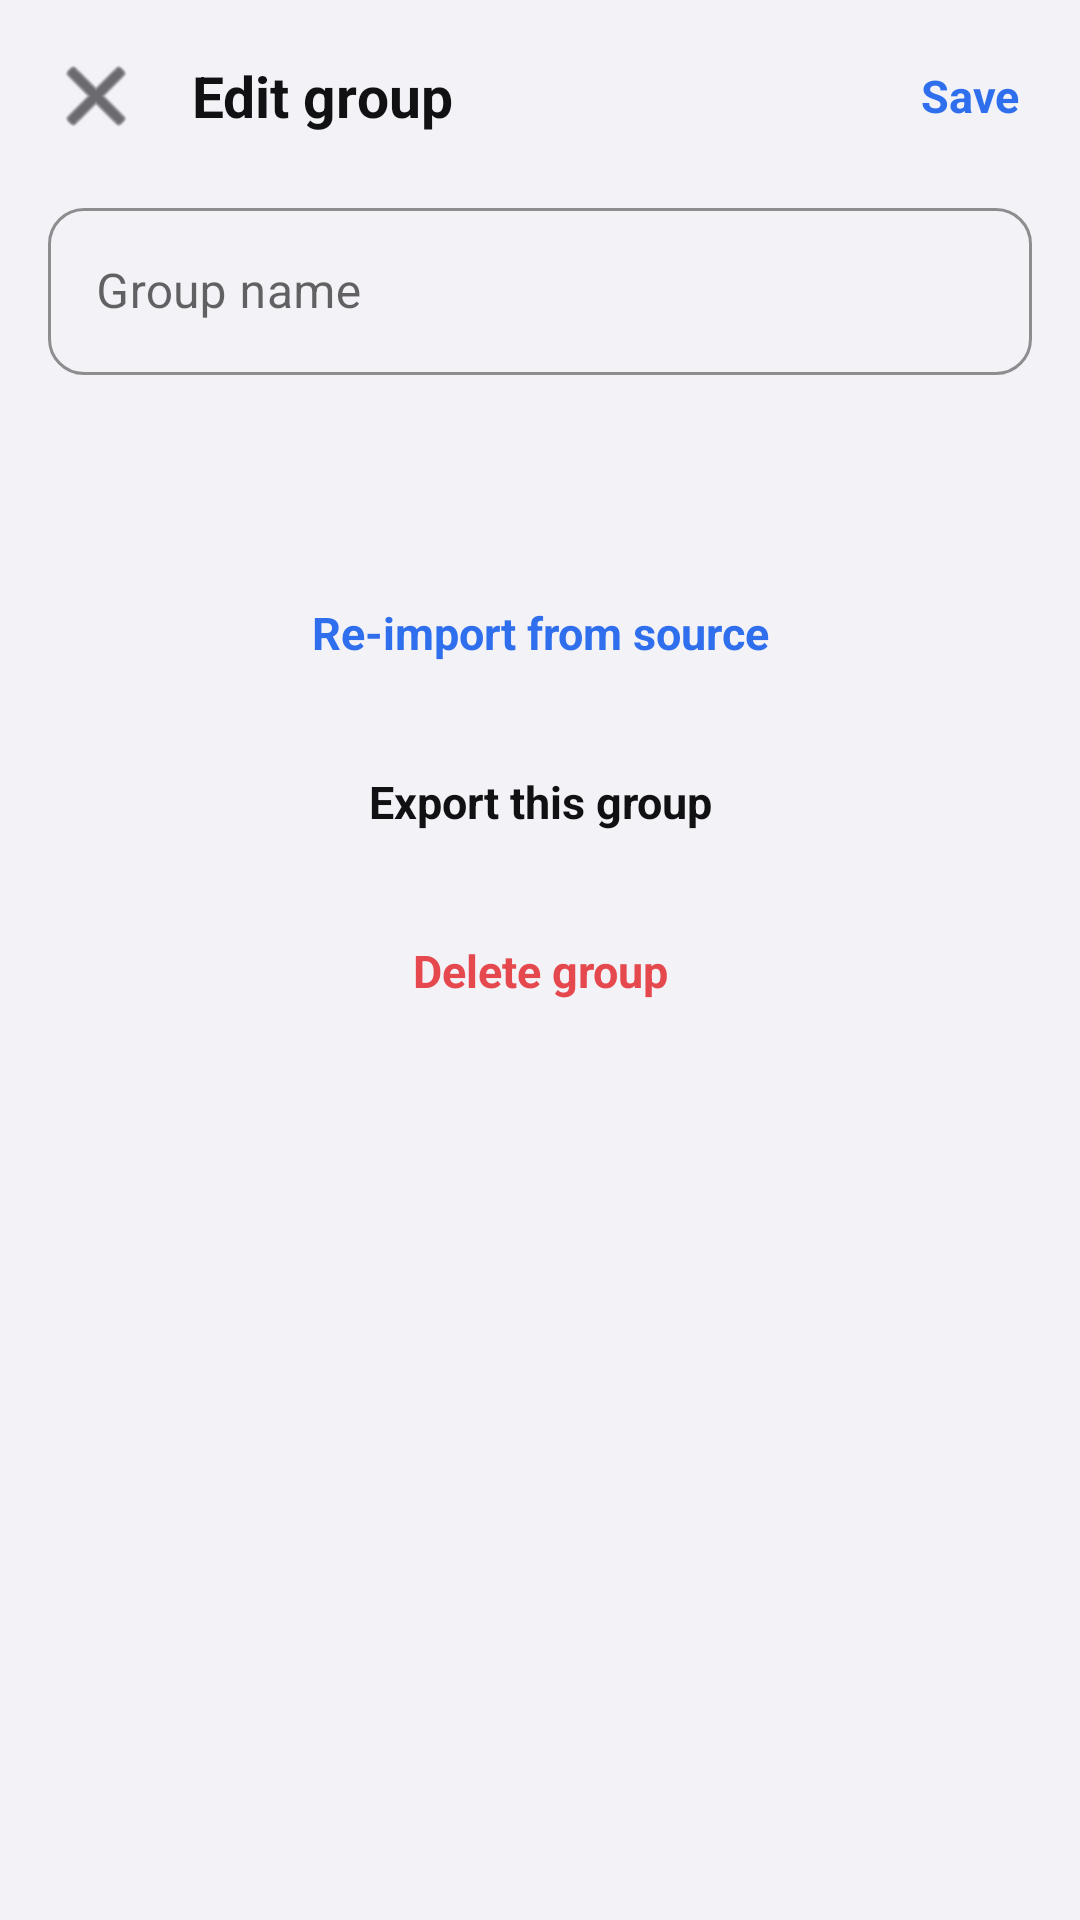

Where icons sit on this 1080*1920 app screen, as (x1, y1, x2, y2):
Close: (66, 66, 126, 126)
